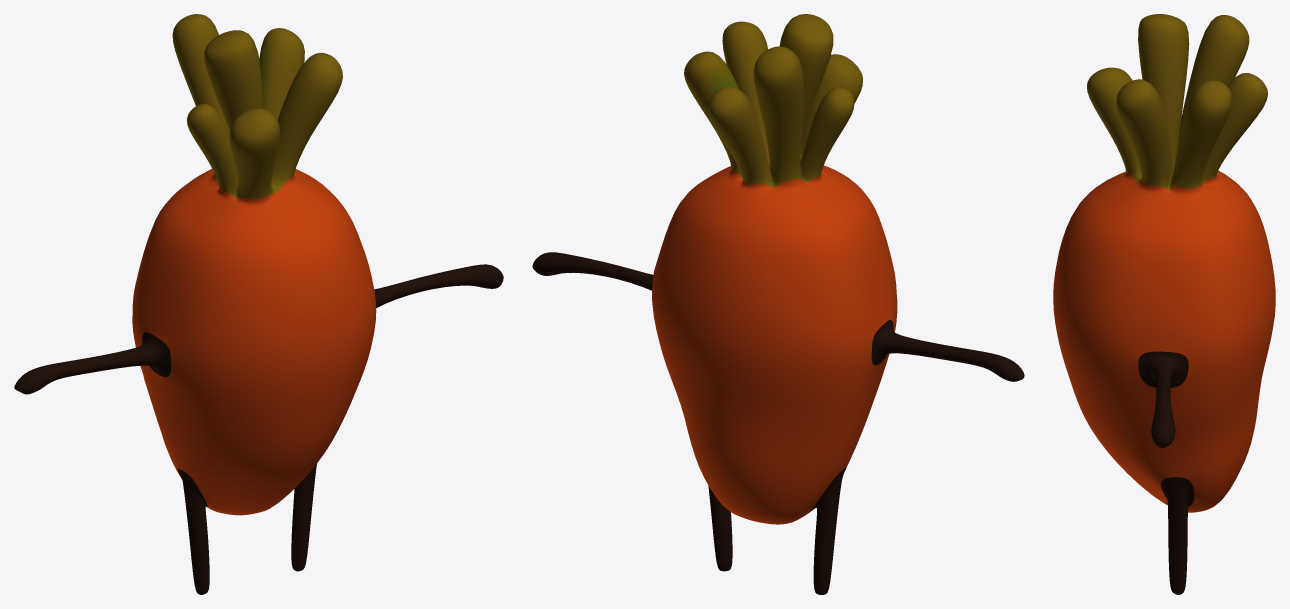
Rendered from Carrot_HIGH.fbx.
3 renders of one model, left to right at view 1: azimuth 30°, elevation 25°; view 2: azimuth 150°, elevation 25°; view 3: azimuth 270°, elevation 25°, orthographic. The views are drawn at different scales.
Parts seen in each view (by area): view 1: Carrot_geo; view 2: Carrot_geo; view 3: Carrot_geo.
Part boxes in pixels (<box>): Carrot_geo: <box>14,14,503,594</box>; Carrot_geo: <box>532,14,1024,594</box>; Carrot_geo: <box>1053,14,1275,594</box>.
Bounding box in the file's own units: 3.14 × 3.45 × 1.28.
